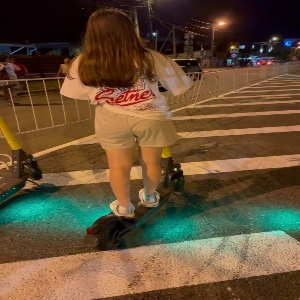human on a scooter: (58, 8, 199, 254)
